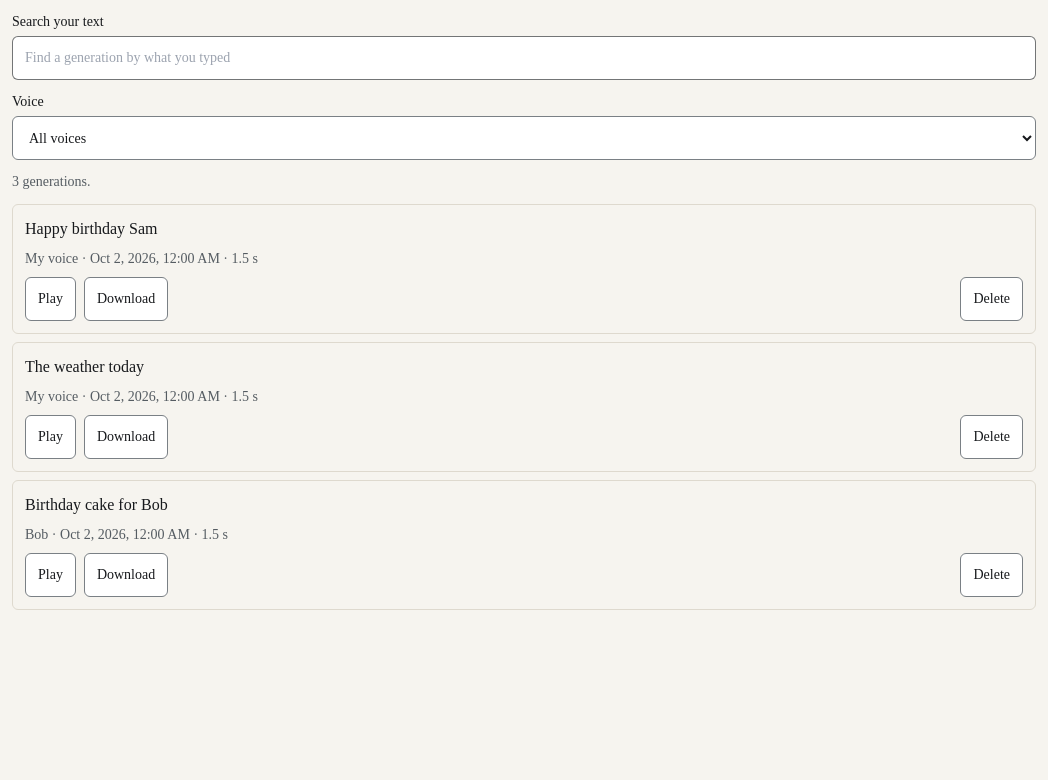
Test case: History search › shows the error state with Try again when the search fails
This screenshot has width=1048, height=780.
Expected: the text "Happy birthday Sam" is shown, [25, 220, 157, 237]
Type "birthday" into the search field labelled "Search your text" at (524, 58), box [12, 36, 1036, 80]
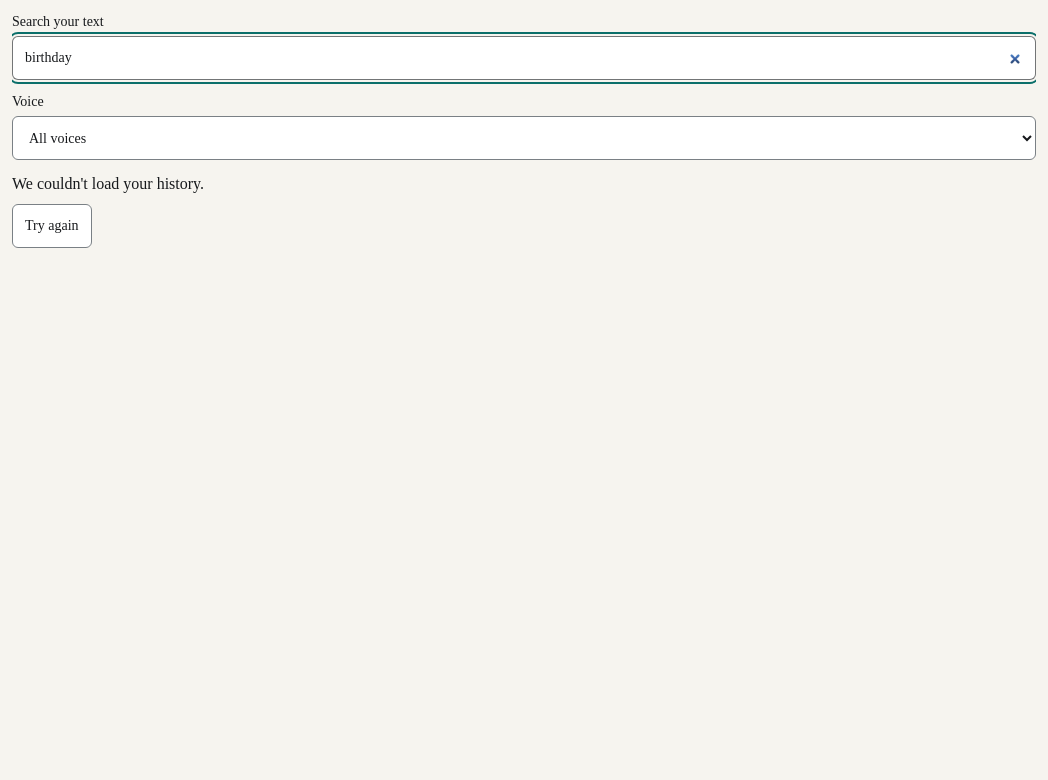
Now the text "We couldn't load your history." is shown, box [12, 175, 204, 192]
Now the button "Try again" is shown, box [12, 204, 92, 248]
